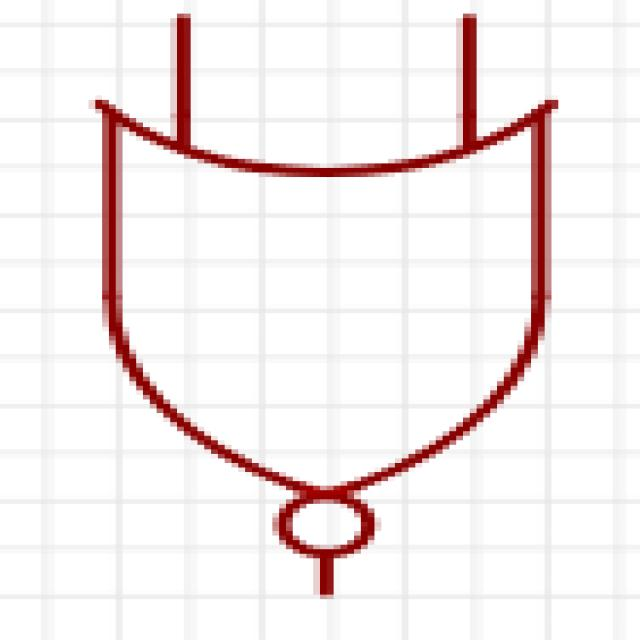nor: (54, 14, 592, 618)
